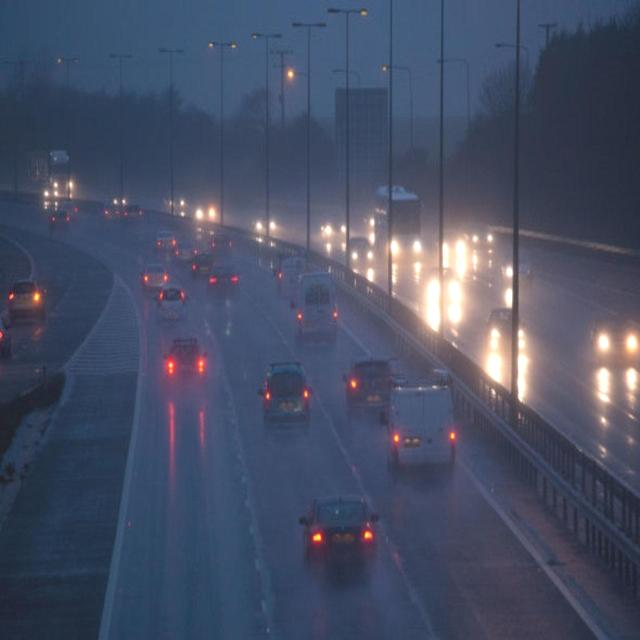Bus: (373, 183, 423, 264)
Car: (302, 467, 382, 570), (386, 380, 457, 472), (258, 360, 313, 426), (342, 355, 399, 418), (295, 270, 338, 343), (589, 318, 637, 364), (163, 338, 206, 378), (7, 280, 46, 324), (484, 304, 525, 342), (157, 284, 189, 322), (278, 255, 305, 299), (208, 260, 241, 292), (140, 260, 168, 292), (348, 236, 371, 263), (174, 240, 197, 265), (191, 252, 213, 277), (195, 194, 216, 220), (0, 314, 12, 358), (49, 208, 72, 230), (431, 368, 453, 390), (156, 230, 177, 252), (208, 232, 232, 251), (164, 195, 187, 214), (59, 200, 77, 220), (104, 202, 123, 220), (273, 249, 291, 267), (254, 219, 276, 233), (126, 203, 144, 220), (272, 261, 283, 282), (320, 222, 333, 234)
